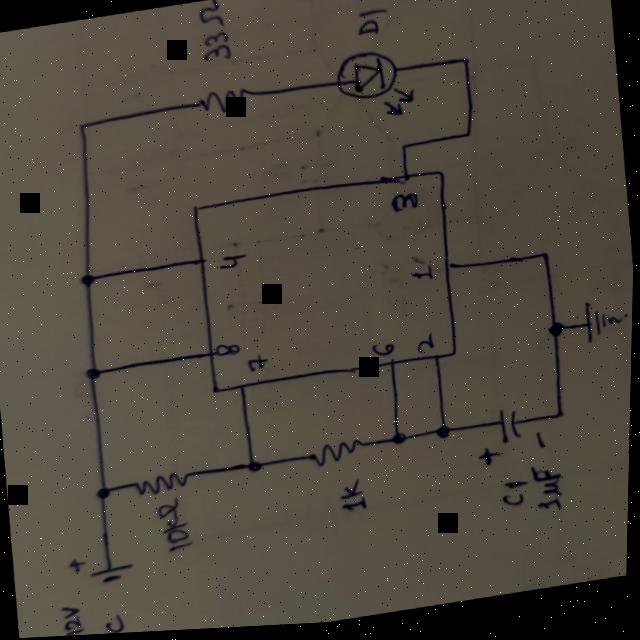capacitor: (470, 410, 548, 472)
diode: (329, 48, 418, 131)
ground: (580, 305, 629, 350)
junction: (93, 481, 116, 506), (243, 457, 268, 480), (83, 362, 104, 385), (77, 269, 98, 292), (432, 426, 454, 446), (386, 434, 409, 453), (71, 118, 94, 137), (542, 327, 567, 344), (533, 252, 553, 273), (549, 413, 569, 433), (456, 131, 473, 148), (395, 143, 413, 159), (455, 59, 474, 74)
resistor: (126, 470, 193, 502), (188, 88, 254, 119), (304, 440, 363, 473)
source: (68, 551, 137, 592)
text: (496, 475, 569, 523), (191, 2, 232, 66), (157, 500, 194, 556), (350, 11, 385, 41), (57, 603, 86, 637), (338, 483, 367, 516), (103, 615, 132, 635), (214, 342, 240, 364), (414, 338, 440, 359), (244, 359, 272, 377), (390, 197, 416, 216), (216, 256, 245, 273), (406, 270, 436, 286), (370, 346, 398, 362)
